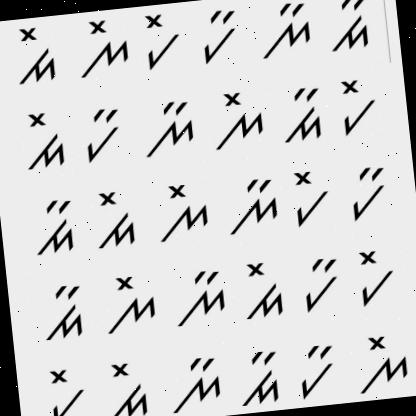dan: (35, 278, 94, 350), (274, 81, 328, 149), (234, 342, 285, 411), (29, 194, 80, 262), (327, 0, 377, 57)
do: (3, 21, 60, 90), (18, 104, 73, 174), (89, 181, 144, 251), (237, 250, 289, 320), (101, 354, 154, 416)
nan: (137, 93, 197, 163), (254, 0, 317, 66), (164, 351, 227, 416), (172, 263, 229, 330), (223, 175, 282, 238)
no: (67, 13, 134, 84), (96, 266, 162, 336), (206, 83, 268, 154), (354, 329, 416, 398), (152, 174, 212, 244)
pan: (339, 159, 395, 223), (75, 100, 130, 164), (290, 336, 342, 402), (193, 3, 244, 66), (295, 251, 346, 313)
po: (350, 242, 401, 312), (282, 166, 335, 230), (332, 72, 382, 139), (138, 8, 184, 73), (38, 362, 91, 416)
